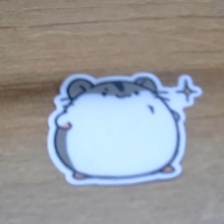mouse: (44, 69, 207, 188)
